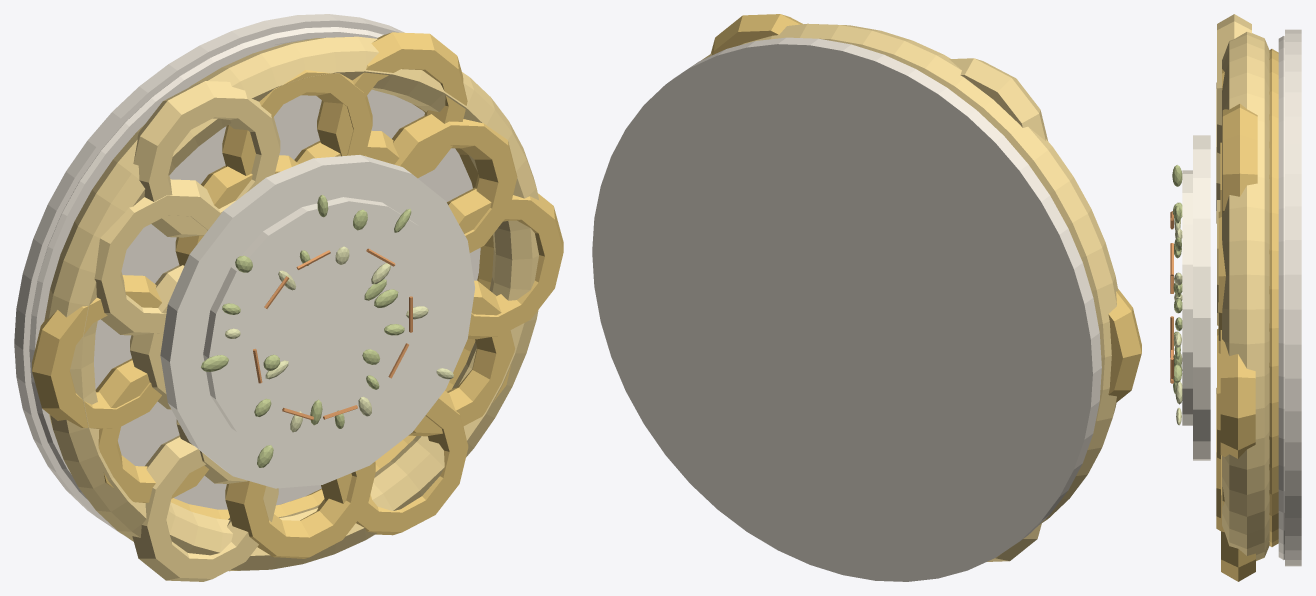
The model's file is premium_ghewar_lowpoly.glb.
3 views of the same model, side by side, from view 1: azimuth 30°, elevation 25°; view 2: azimuth 150°, elevation 25°; view 3: azimuth 270°, elevation 25° (orthographic). The views are drawn at different scales.
Parts seen in each view (by area): view 1: Rabri_Cream_Center, Ghewar_Outer_Crisp_Rim, Rabri_Cream_Base, Serving_Plate, Ghewar_Honeycomb_17, Ghewar_Honeycomb_08, Ghewar_Honeycomb_01, Serving_Plate_Rim, Ghewar_Honeycomb_13, Ghewar_Honeycomb_16, Ghewar_Honeycomb_02, Ghewar_Honeycomb_19 (+10 smaller); view 2: Serving_Plate, Ghewar_Outer_Crisp_Rim, Ghewar_Honeycomb_17, Ghewar_Honeycomb_08, Ghewar_Honeycomb_19; view 3: Ghewar_Outer_Crisp_Rim, Serving_Plate, Rabri_Cream_Base, Ghewar_Lower_Rim, Serving_Plate_Rim, Ghewar_Honeycomb_12, Ghewar_Honeycomb_19, Rabri_Cream_Center, Ghewar_Honeycomb_17, Ghewar_Honeycomb_03, Ghewar_Honeycomb_16, Ghewar_Honeycomb_06 (+3 smaller).
Boxes of the visible parts, <box> form: Rabri_Cream_Center: <box>203,197,447,457</box>; Ghewar_Outer_Crisp_Rim: <box>44,36,539,571</box>; Rabri_Cream_Base: <box>160,155,474,488</box>; Serving_Plate: <box>14,14,480,533</box>; Ghewar_Honeycomb_17: <box>133,81,280,237</box>; Ghewar_Honeycomb_08: <box>32,275,161,428</box>; Ghewar_Honeycomb_01: <box>132,435,278,581</box>; Serving_Plate_Rim: <box>29,27,383,499</box>; Ghewar_Honeycomb_13: <box>94,179,220,335</box>; Ghewar_Honeycomb_16: <box>392,114,517,252</box>; Ghewar_Honeycomb_02: <box>225,461,375,558</box>; Ghewar_Honeycomb_19: <box>317,32,467,178</box>; Serving_Plate: <box>592,37,1101,581</box>; Ghewar_Outer_Crisp_Rim: <box>701,23,1118,524</box>; Ghewar_Honeycomb_17: <box>949,58,1047,140</box>; Ghewar_Honeycomb_08: <box>1108,289,1141,402</box>; Ghewar_Honeycomb_19: <box>710,14,803,55</box>; Ghewar_Outer_Crisp_Rim: <box>1222,32,1269,560</box>; Serving_Plate: <box>1285,29,1301,566</box>; Rabri_Cream_Base: <box>1193,135,1210,460</box>; Ghewar_Lower_Rim: <box>1269,49,1278,546</box>; Serving_Plate_Rim: <box>1278,36,1284,559</box>; Ghewar_Honeycomb_12: <box>1220,330,1255,458</box>; Ghewar_Honeycomb_19: <box>1222,104,1257,213</box>; Rabri_Cream_Center: <box>1182,170,1192,425</box>; Ghewar_Honeycomb_17: <box>1217,14,1251,166</box>; Ghewar_Honeycomb_03: <box>1221,455,1255,581</box>; Ghewar_Honeycomb_16: <box>1218,210,1225,353</box>; Ghewar_Honeycomb_06: <box>1217,328,1220,471</box>.
Bounding box in the file's own units: 2.4 × 2.26 × 0.5526.
